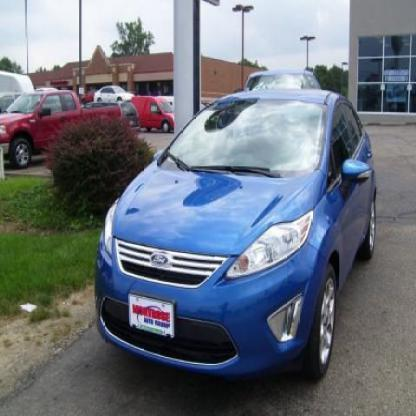Vehicle: (96, 89, 381, 384)
